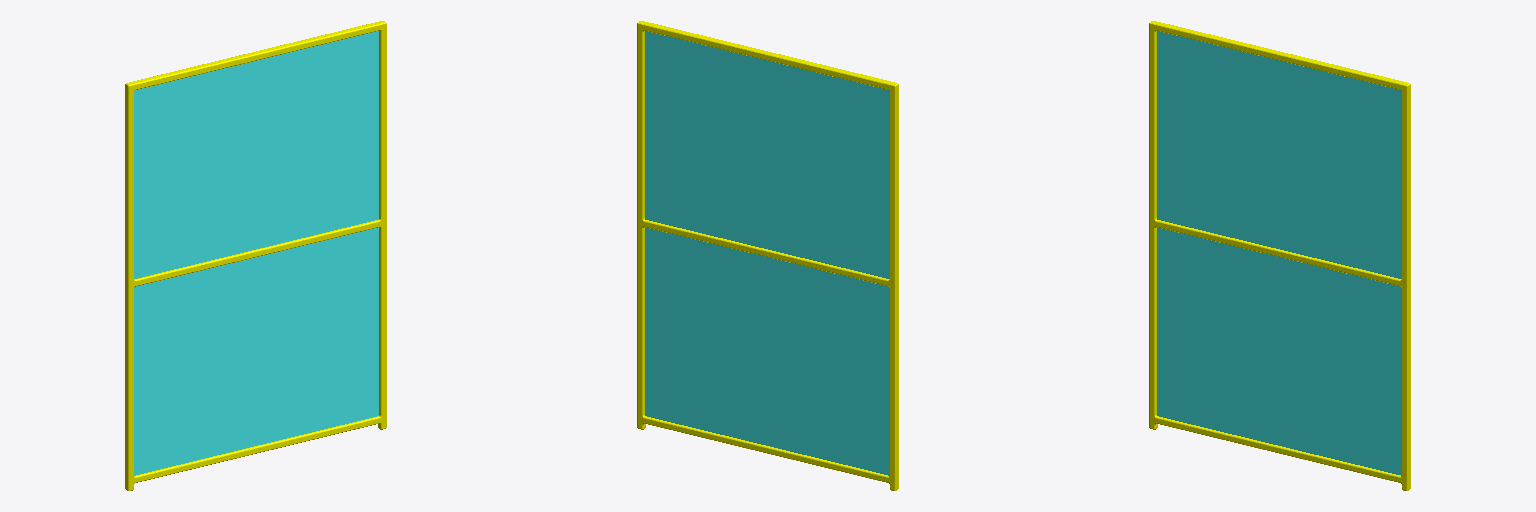
URDF robot description (panel_3m_2m_solid):
<?xml version="1.0" encoding="utf-8"?>
<!-- =================================================================================== -->
<!-- |    This document was autogenerated by xacro from panel_3m_2m_solid.xacro        | -->
<!-- |    EDITING THIS FILE BY HAND IS NOT RECOMMENDED                                 | -->
<!-- =================================================================================== -->
<robot name="panel_3m_2m_solid">
  <!-- link list -->
  <link name="base_link">
    <visual>
      <origin rpy="0 0 0" xyz="0 0 0"/>
      <geometry>
        <mesh filename="package://twc_support/CAD/fence/panel_3m_2m_solid/urdf/visual/base_link.dae"/>
      </geometry>
    </visual>
    <collision>
      <origin rpy="0 0 0" xyz="0 0 0"/>
      <geometry>
        <mesh filename="package://twc_support/CAD/fence/panel_3m_2m_solid/urdf/visual/base_link.dae"/>
      </geometry>
    </collision>
  </link>
  <link name="tool0"/>
  <joint name="joint_1" type="fixed">
    <origin rpy="0 0 0" xyz="1.0 0 0"/>
    <parent link="base_link"/>
    <child link="tool0"/>
  </joint>
</robot>

--- Facts derived from the render (not from the file) ---
Views: 3 orthographic renders of the robot side by side, from view 1: azimuth 30°, elevation 25°; view 2: azimuth 150°, elevation 25°; view 3: azimuth 330°, elevation 25°.
Robot: panel_3m_2m_solid — 2 links, 1 joints (1 fixed); root link base_link; default pose: all joints at 0.
Visible links, largest first — view 1: base_link; view 2: base_link; view 3: base_link.
Link boxes in pixels (box(x1,y1,x2,y2)): base_link: box(125, 21, 386, 490); base_link: box(637, 21, 898, 490); base_link: box(1149, 21, 1410, 490).
Size in the robot's own frame: 2 by 0.05 by 3 metres.
Meshes: 1 distinct files referenced, 1 mesh visuals loaded (1 Collada DAE).